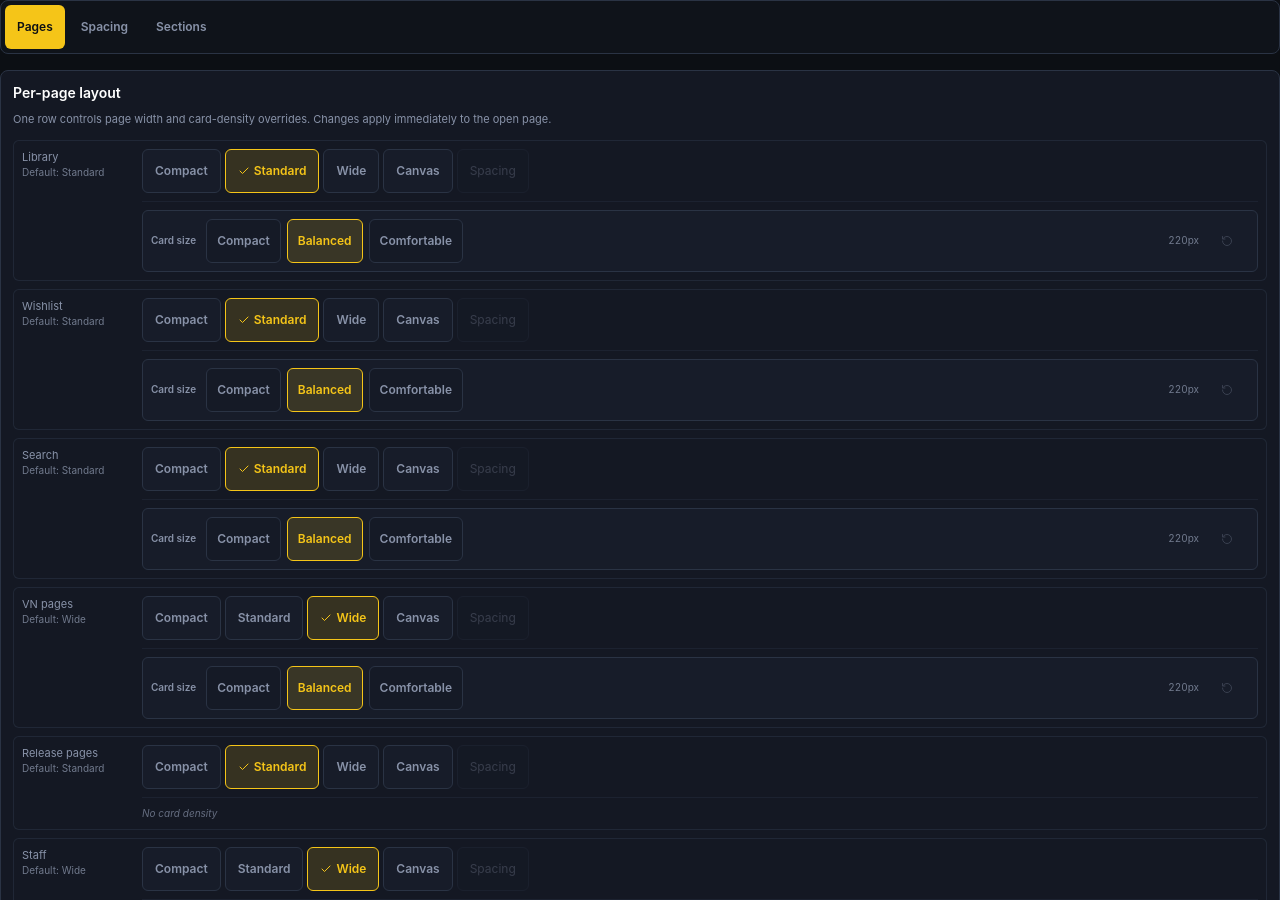
Test case: LayoutSettingsTab branches › applies only the fixed scoped-density presets
The image size is (1280, 900).
Expected: the list item "Library" is shown, [22,150,58,164]
Click the 2nd button "Compact" at (243, 240), box [206,218,281,262]
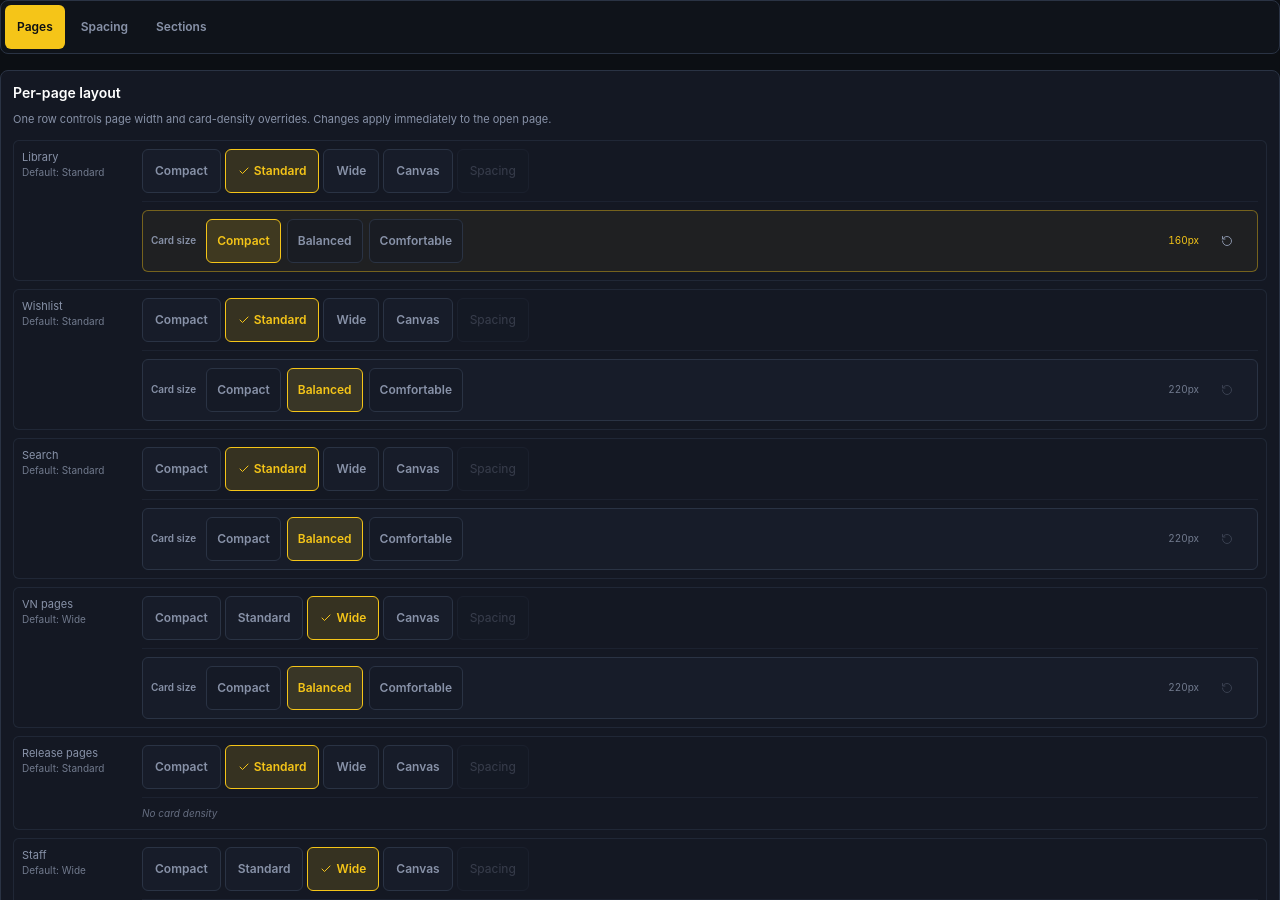
Expected: the text "160px" is shown, [1168,234,1199,246]
Click the button "Balanced" in the row of "160" at (325, 240), box [287,218,363,262]
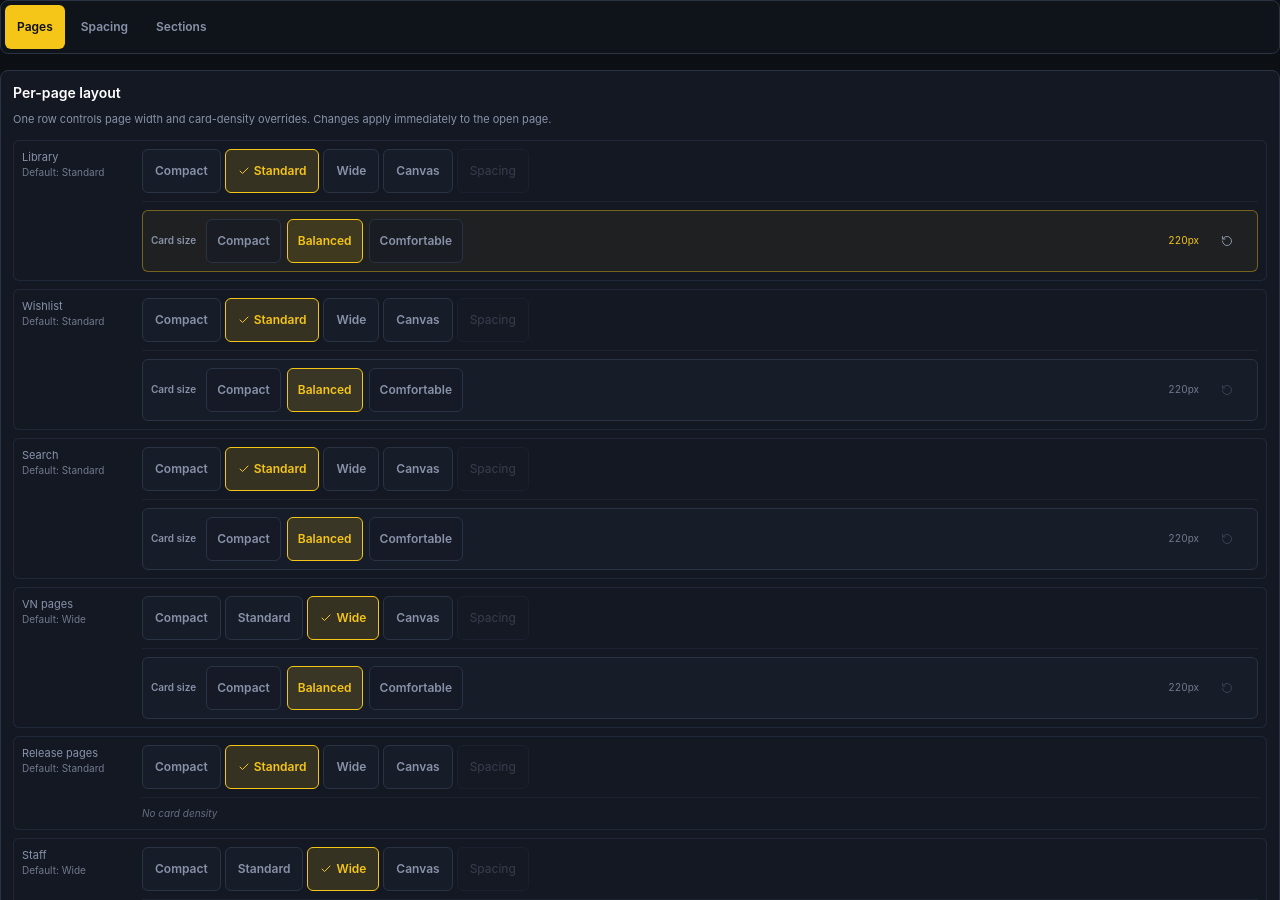
Expected: the 1st text "220px" is shown, [1168,234,1199,246]
